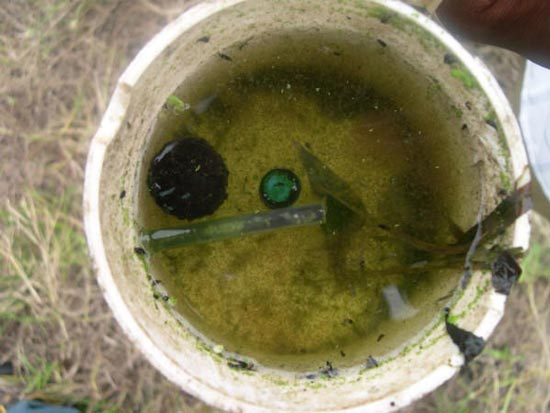container: (76, 1, 541, 413)
water: (130, 30, 507, 383)
